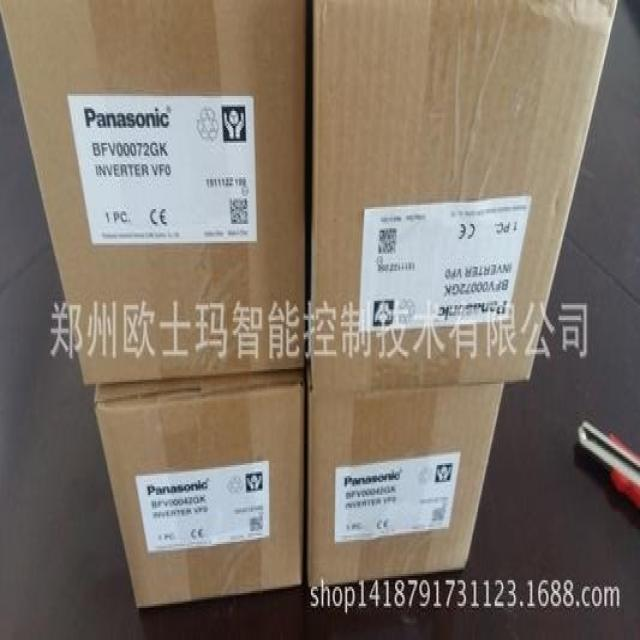box: (309, 0, 617, 388), (95, 371, 304, 608), (305, 373, 504, 587)
